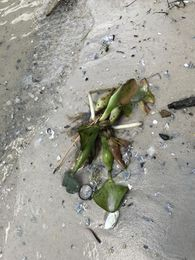water_hyacinth: (51, 61, 162, 234)
